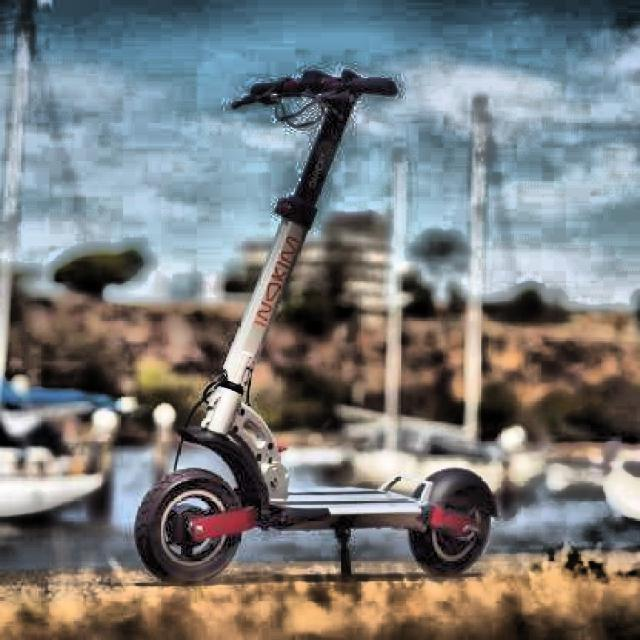bike: (133, 66, 502, 583)
